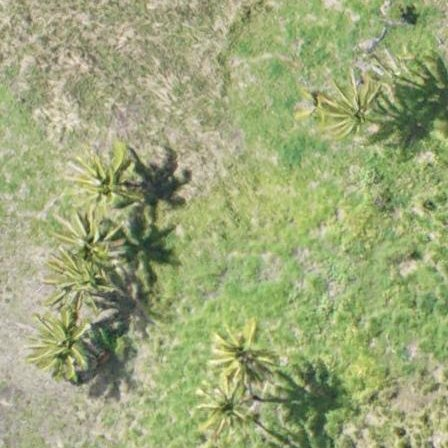palm_tree: (32, 312, 99, 383), (40, 249, 109, 317), (67, 147, 140, 209), (49, 209, 119, 267), (324, 76, 386, 141), (191, 375, 253, 435), (206, 322, 265, 385)
